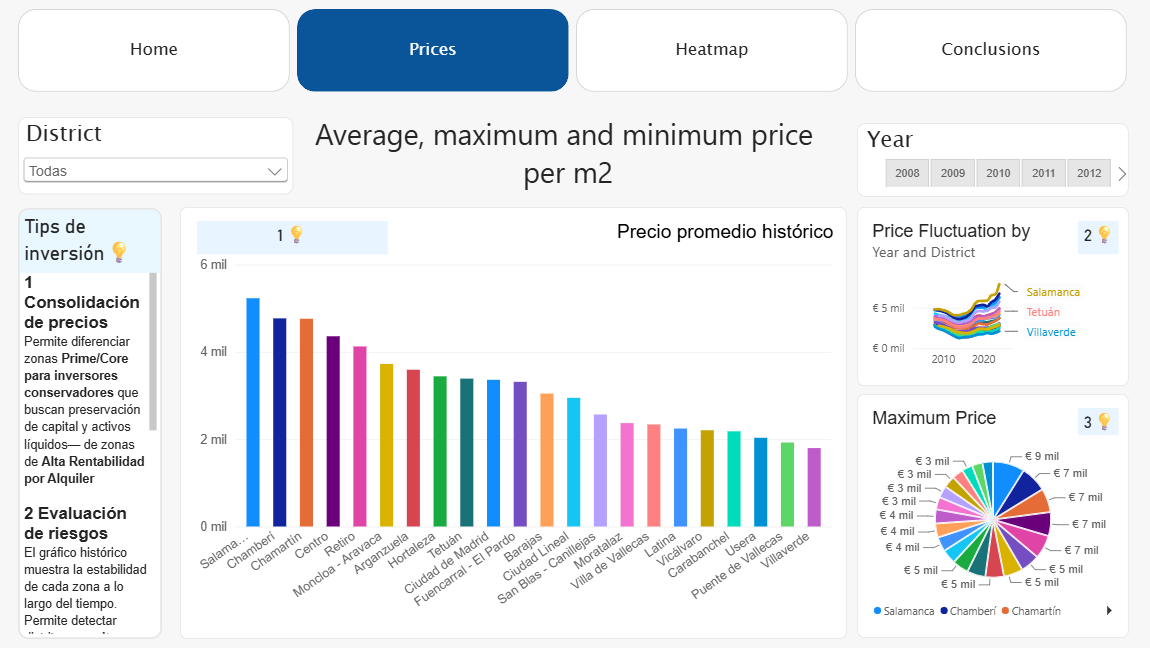

This screenshot's page, from the dashboard's own definition file:
{"tool":"powerbi","page":{"name":"Prices","canvas":[1280,720],"ordinal":1},"visuals":[{"type":"textbox","box":[21.1,125.6,1222.2,104.4],"z":0},{"type":"columnChart","title":"Precio promedio histórico ","fields":{"Category":["DimDistrito.Distrito"],"Series":["FactPrecios.Distrito"],"Y":["FactPrecios.Precio Promedio Anual"]},"box":[201.1,230,741.1,480],"z":1000},{"type":"lineChart","title":"Price Fluctuation by","fields":{"Category":["DimFecha.Año"],"Series":["DimDistrito.Distrito"],"Y":["FactPrecios.Precio Promedio"]},"box":[953.3,230,302.2,198.9],"z":2000},{"type":"pieChart","title":"Maximum Price","fields":{"Category":["FactPrecios.Distrito"],"Y":["FactPrecios.Precio Máximo Distrito"]},"box":[953.3,437.8,302.2,271.1],"z":3000},{"type":"textbox","title":"Tips de inversión💡","box":[21.1,231.1,160,478.9],"z":4000},{"type":"actionButton","title":"1💡","box":[220,245,212.2,36.7],"z":5000},{"type":"textbox","box":[21.1,133.3,160,51.1],"z":6000},{"type":"actionButton","title":"3💡","box":[1198.8,453.7,44.6,30.2],"z":7000},{"type":"actionButton","title":" 2💡","box":[1198.8,245.2,44.6,36.6],"z":8000},{"type":"slicer","fields":{"Values":["DimDistrito.Distrito"]},"box":[21.1,130,305.6,85.6],"z":9000},{"type":"pageNavigator","box":[21.1,10,1234.4,92.2],"z":10000},{"type":"slicer","title":"Year","fields":{"Values":["DimFecha.Año"]},"box":[953.3,136.7,302.2,82.2],"z":11000}]}

Visuals, with their boxes in screenshot pixels (x1, y1, x2, y2), scaled from the page's 1280x720 canvas onto the 1150x648 screenshot:
textbox: <region>19, 113, 1117, 207</region>
"Precio promedio histórico " columnChart: <region>181, 207, 847, 639</region>
"Price Fluctuation by" lineChart: <region>856, 207, 1128, 386</region>
"Maximum Price" pieChart: <region>856, 394, 1128, 638</region>
"Tips de inversión💡" textbox: <region>19, 208, 163, 639</region>
"1💡" actionButton: <region>198, 220, 388, 254</region>
textbox: <region>19, 120, 163, 166</region>
"3💡" actionButton: <region>1077, 408, 1117, 436</region>
" 2💡" actionButton: <region>1077, 221, 1117, 254</region>
slicer - DimDistrito.Distrito: <region>19, 117, 294, 194</region>
pageNavigator: <region>19, 9, 1128, 92</region>
"Year" slicer: <region>856, 123, 1128, 197</region>
